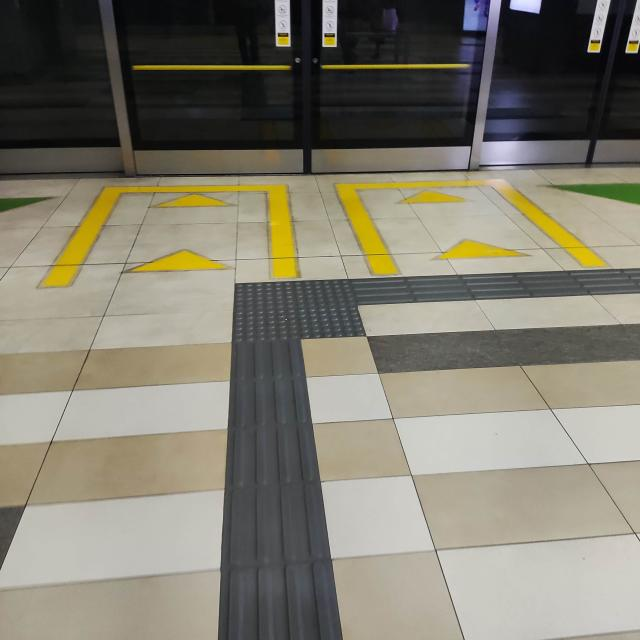kanan: (218, 256, 452, 354)
